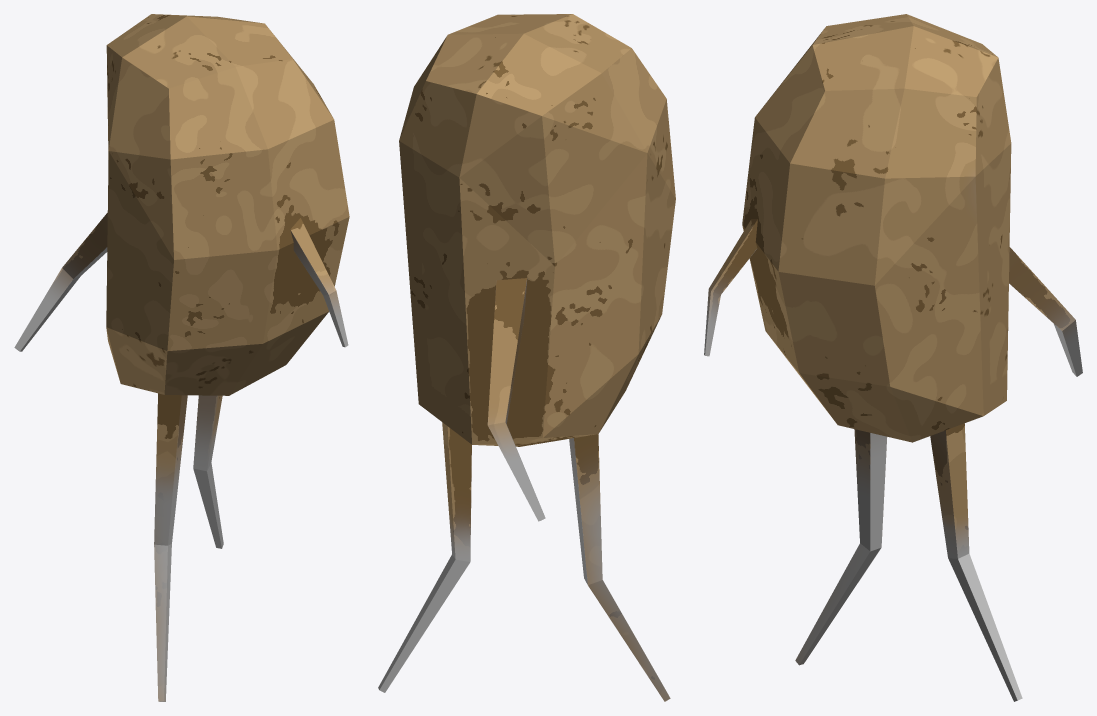
The model's file is patate_2.glb.
3 renders of one model, left to right at view 1: azimuth 30°, elevation 25°; view 2: azimuth 150°, elevation 25°; view 3: azimuth 270°, elevation 25°, orthographic. The views are drawn at different scales.
Parts seen in each view (by area): view 1: corps.001, jambes.001; view 2: corps.001, jambes.001; view 3: corps.001, jambes.001.
Boxes of the visible parts, x1,y1,x2,y2 form: corps.001: [106, 14, 349, 395]; jambes.001: [14, 213, 348, 701]; corps.001: [399, 14, 675, 446]; jambes.001: [378, 278, 670, 701]; corps.001: [742, 14, 1011, 442]; jambes.001: [704, 219, 1082, 701].
Size of the model in its own units: 0.504 by 1.38 by 0.6972.
Materials: 1 (1 with a texture image).
